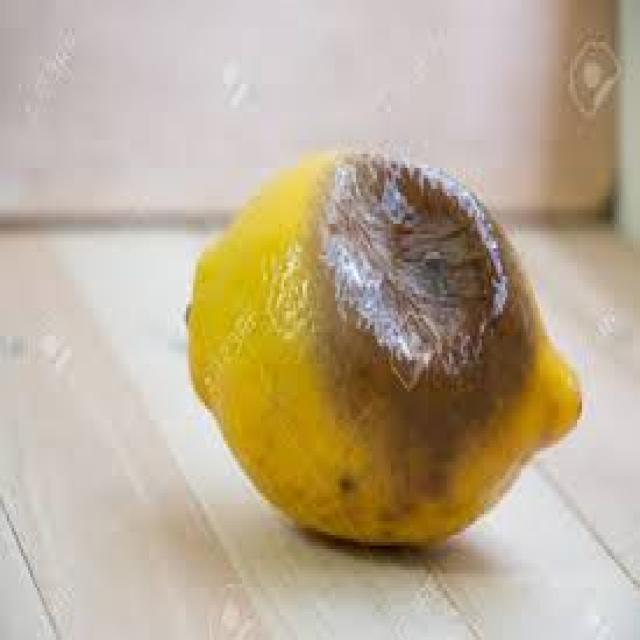Rotten: (182, 145, 584, 552)
